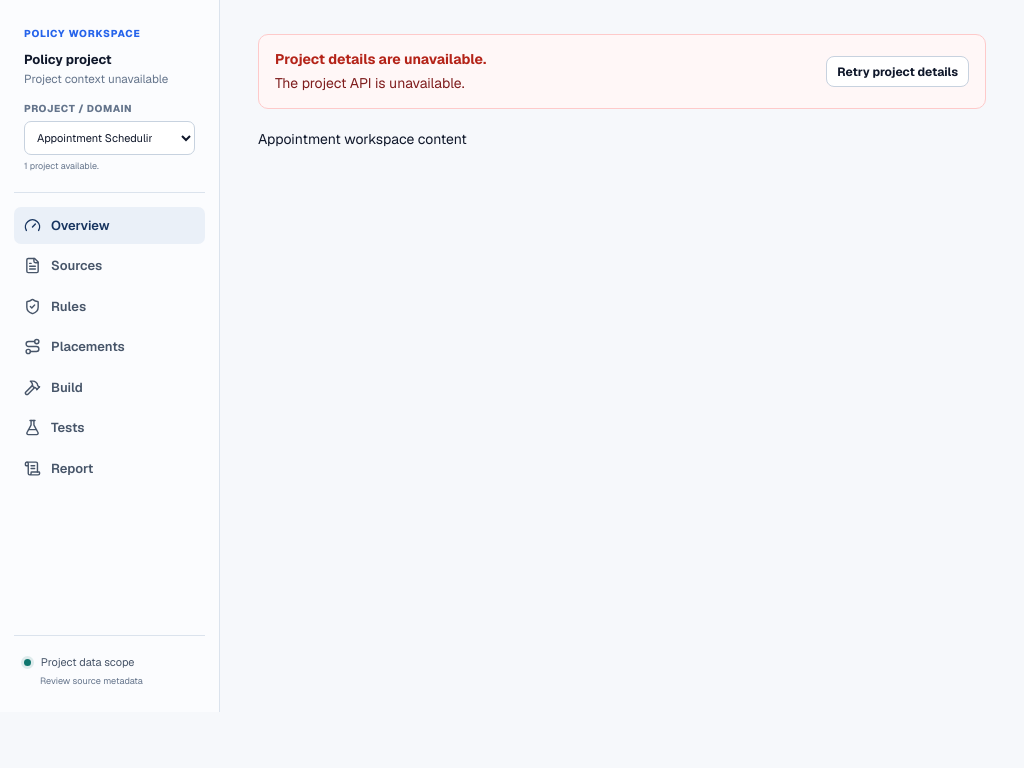
Test: shared project shell › surfaces a project query failure and lets the user retry
The image size is (1024, 768).
Expected: the message named "Project details error" shows "Project details are unavailable.", [275,50,486,68]
Expected: the message named "Project details error" shows "The project API is unavailable.", [275,74,464,92]
Click the button "Retry project details". click: {"x": 898, "y": 72}
box: [826,56,969,87]
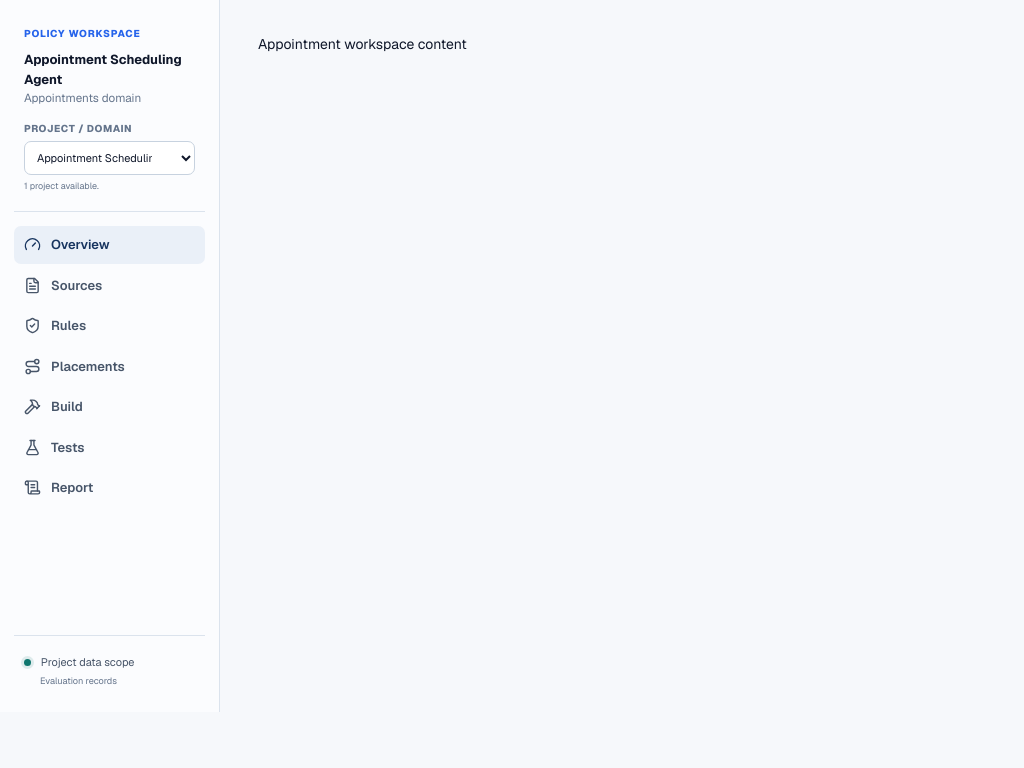
Now the text "Appointment Scheduling Agent" is shown, box [24,50,195,89]
